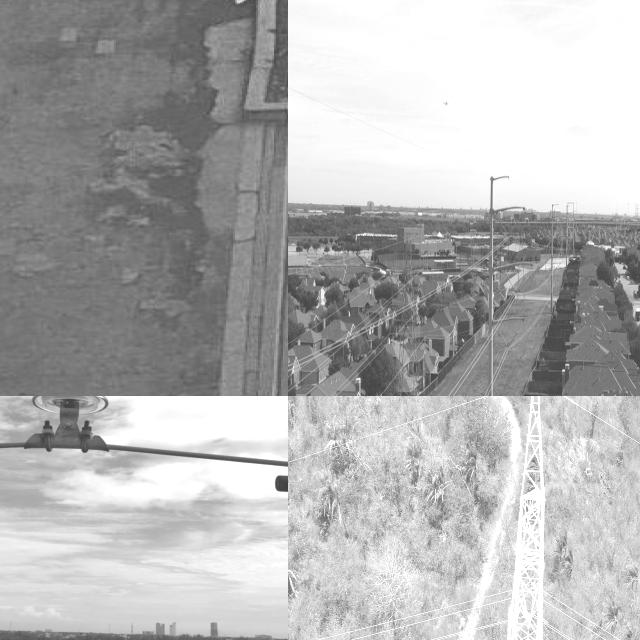杆塔: (479, 396, 567, 640), (389, 221, 427, 396)
正常电缆: (261, 0, 288, 396)
正常绝缘子: (505, 325, 522, 352), (505, 214, 522, 240), (504, 270, 519, 297), (513, 272, 528, 298), (497, 213, 511, 240), (496, 324, 510, 350)
